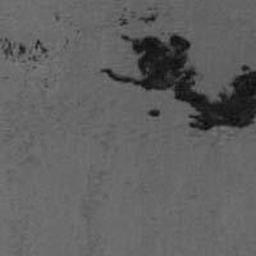Inclusion: (97, 32, 256, 132), (0, 35, 51, 69), (119, 5, 159, 27), (68, 22, 82, 35), (41, 76, 51, 88), (147, 110, 160, 119), (52, 13, 61, 22), (64, 35, 70, 45), (3, 76, 10, 82)
